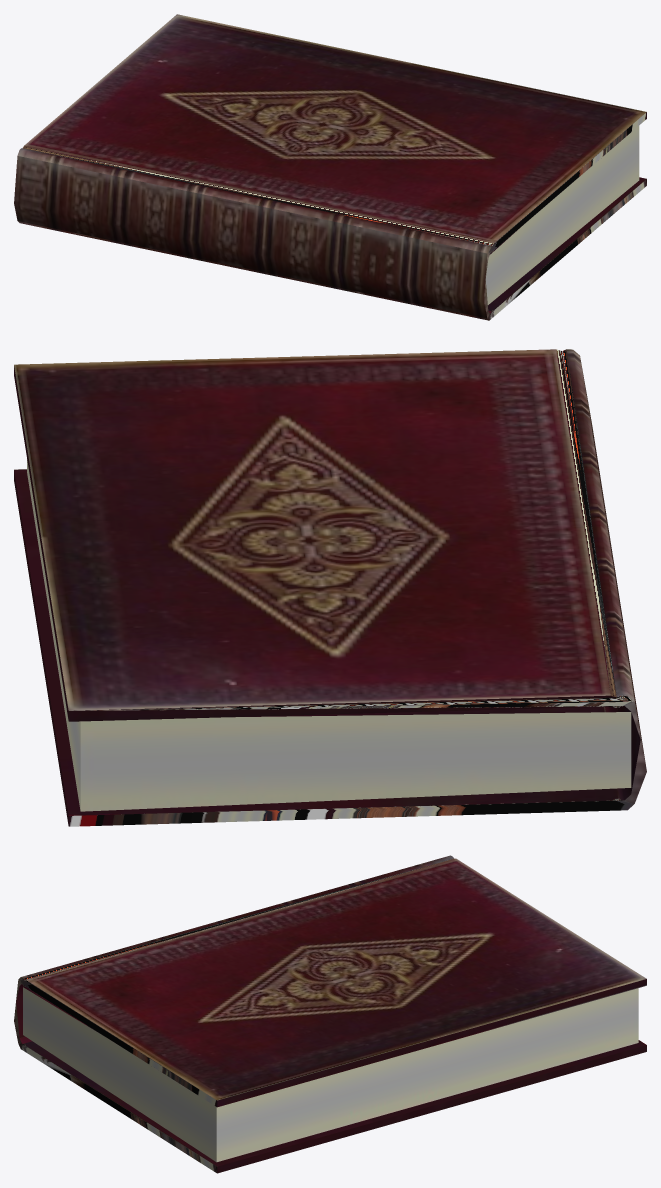
The model's file is Book_1.fbx.
The picture shows the model from 3 angles, top to bottom: view 1: azimuth 30°, elevation 25°; view 2: azimuth 150°, elevation 25°; view 3: azimuth 270°, elevation 25°; orthographic projection. The views are drawn at different scales.
Parts seen in each view (by area): view 1: Book_1; view 2: Book_1; view 3: Book_1.
Part boxes in pixels (x1,y1,x2,y2): Book_1: (14, 14, 646, 320); Book_1: (14, 349, 646, 826); Book_1: (14, 855, 646, 1173).
Size of the model in its own units: 0.2613 by 0.0356 by 0.2797.
